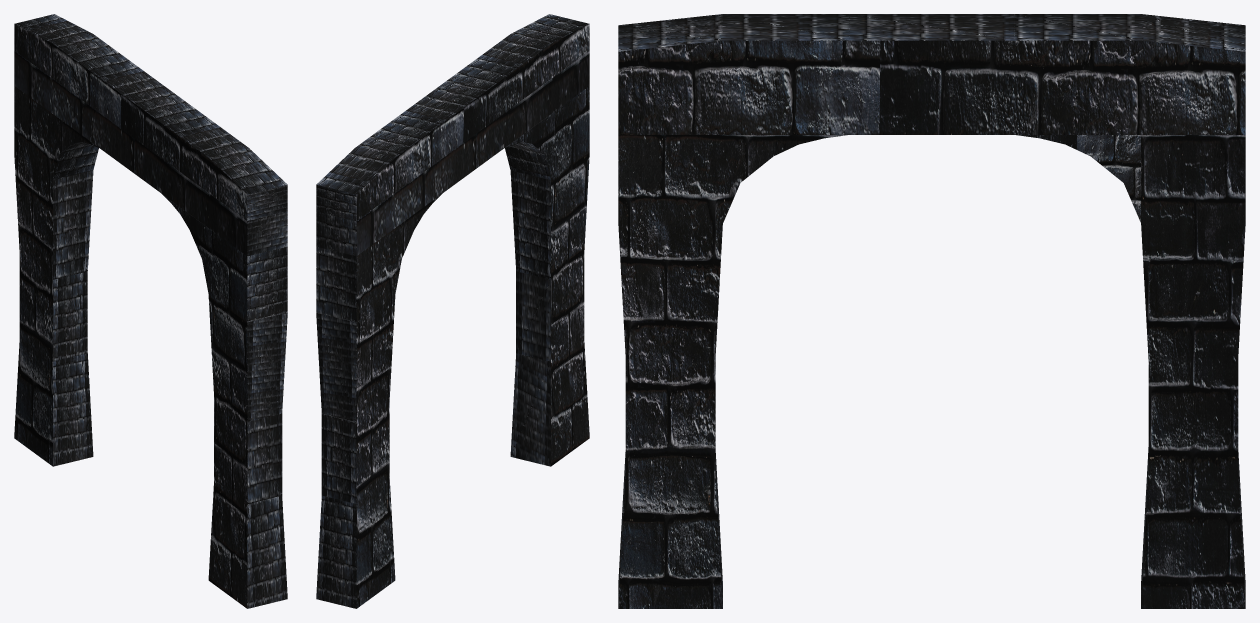
Rendered from archway_1.fbx.
The picture shows the model from 3 angles, left to right: view 1: azimuth 30°, elevation 25°; view 2: azimuth 150°, elevation 25°; view 3: azimuth 270°, elevation 25°; orthographic projection. The views are drawn at different scales.
Parts seen in each view (by area): view 1: Cube; view 2: Cube; view 3: Cube.
Part boxes in pixels (x1,y1,x2,y2): Cube: (14, 14, 287, 608); Cube: (316, 14, 589, 608); Cube: (618, 14, 1245, 608).
Bounding box in the file's own units: 200 × 2000 × 2000.
Materials: 1 (1 with a texture image).
